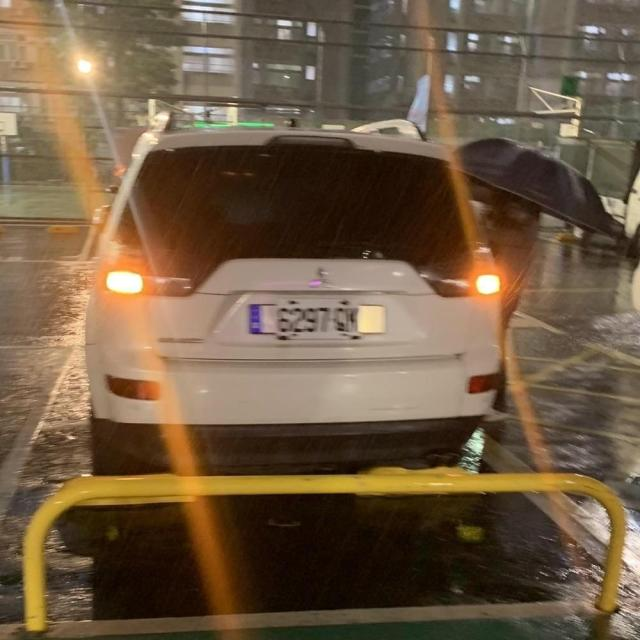W: (272, 293, 364, 345)
